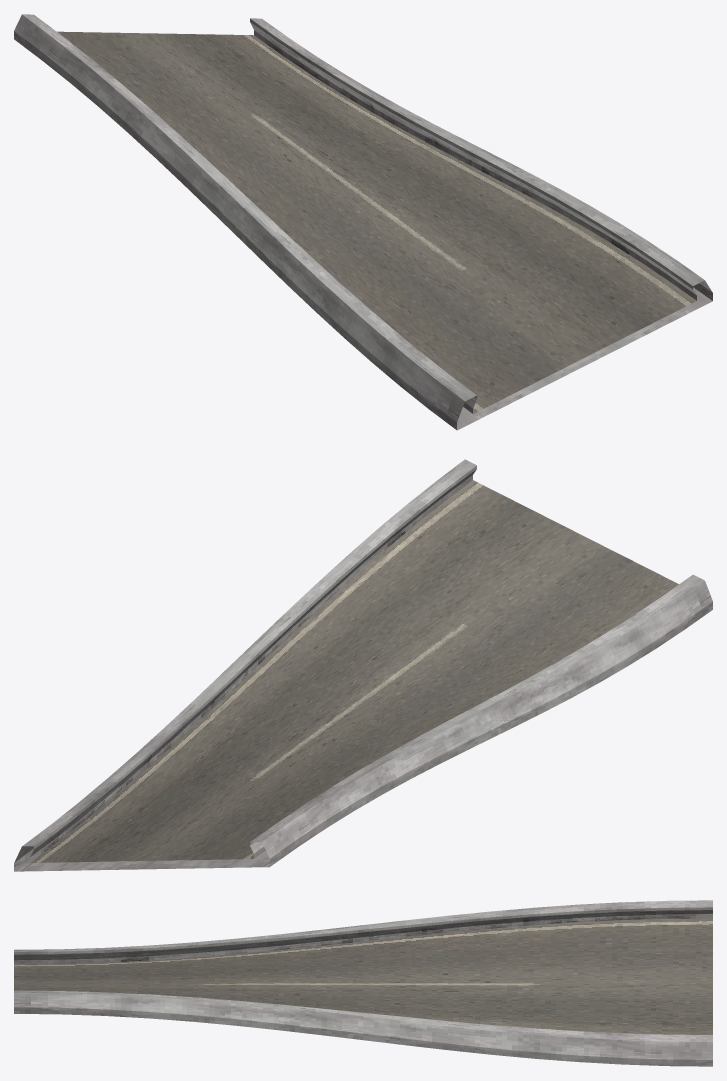
The model's file is straight3.glb.
The picture shows the model from 3 angles, top to bottom: view 1: azimuth 30°, elevation 25°; view 2: azimuth 150°, elevation 25°; view 3: azimuth 270°, elevation 25°; orthographic projection. The views are drawn at different scales.
Visible parts, largest first — view 1: road-Straight-HalfBankedLeft-HalfBankedRight-Even-Center-Siz; view 2: road-Straight-HalfBankedLeft-HalfBankedRight-Even-Center-Siz; view 3: road-Straight-HalfBankedLeft-HalfBankedRight-Even-Center-Siz.
Boxes of the visible parts, left/top/right/bottom form: road-Straight-HalfBankedLeft-HalfBankedRight-Even-Center-Siz: left=14, top=14, right=712, bottom=430; road-Straight-HalfBankedLeft-HalfBankedRight-Even-Center-Siz: left=14, top=459, right=712, bottom=871; road-Straight-HalfBankedLeft-HalfBankedRight-Even-Center-Siz: left=14, top=900, right=712, bottom=1066.
Bounding box in the file's own units: 1 × 0.3359 × 3.
Materials: 2 (2 with a texture image).
